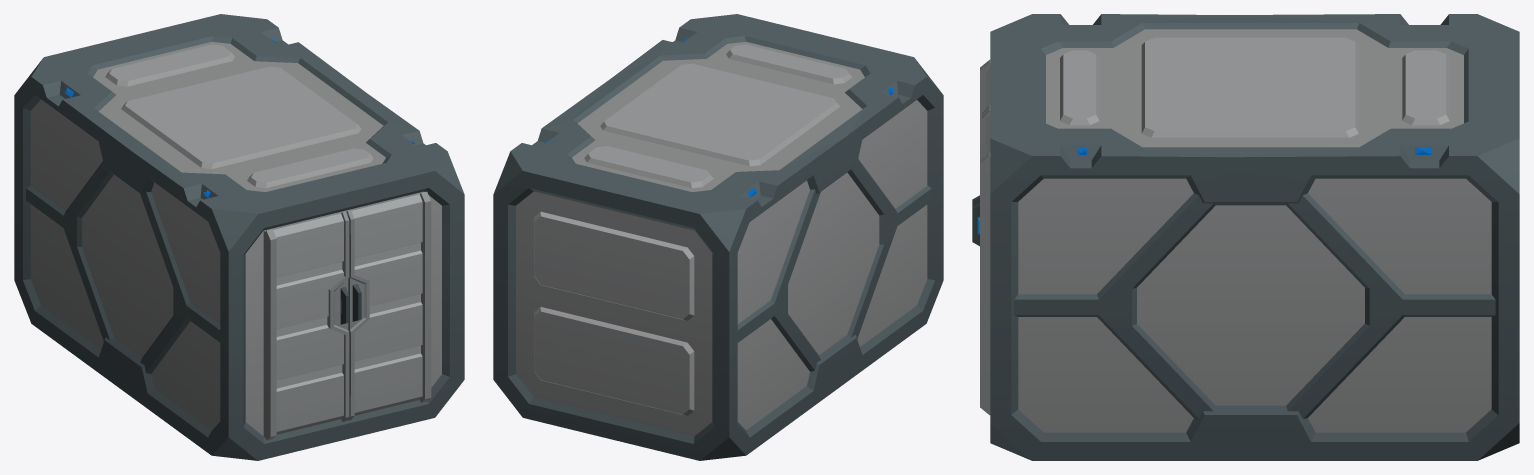
The model's file is Container_type_B_007.glb.
The picture shows the model from 3 angles, left to right: view 1: azimuth 30°, elevation 25°; view 2: azimuth 150°, elevation 25°; view 3: azimuth 270°, elevation 25°; orthographic projection. The views are drawn at different scales.
Parts seen in each view (by area): view 1: Container_type_B_007, Container_type_B_door_013, Container_type_B_door_012; view 2: Container_type_B_007; view 3: Container_type_B_007, Container_type_B_door_012, Container_type_B_door_013.
Boxes of the visible parts, bbox=[...] form: Container_type_B_007: bbox=[14, 14, 464, 460]; Container_type_B_door_013: bbox=[263, 211, 349, 440]; Container_type_B_door_012: bbox=[344, 191, 431, 420]; Container_type_B_007: bbox=[493, 14, 943, 460]; Container_type_B_007: bbox=[990, 14, 1519, 460]; Container_type_B_door_012: bbox=[972, 108, 990, 415]; Container_type_B_door_013: bbox=[972, 59, 990, 206].
Bounding box in the file's own units: 2.4 × 2.41 × 3.9.
Materials: 2 (2 with a texture image).
